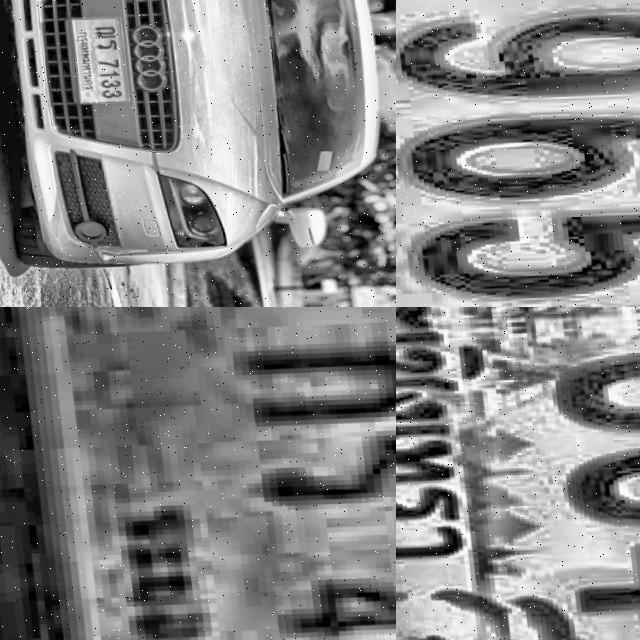license-plate: (24, 307, 396, 640), (396, 307, 640, 640), (396, 0, 640, 307), (62, 14, 129, 108)
